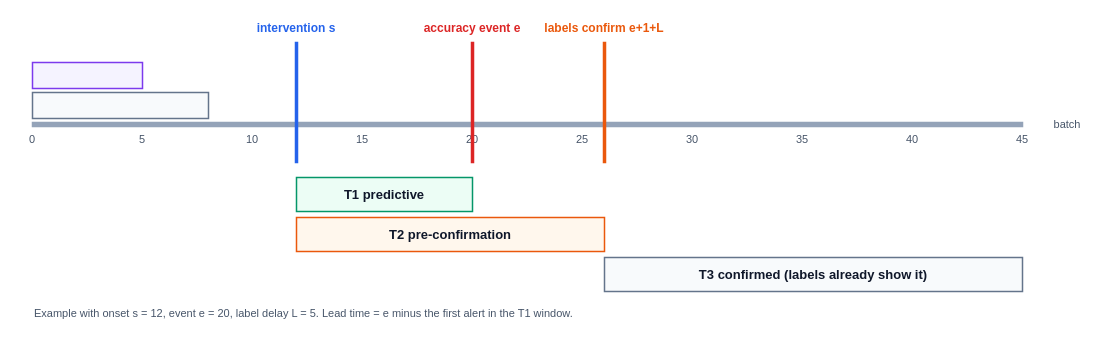
Image size: 1119x341. Some labels were removed from this diagram. The shapes that lost their labels are listed below. From the top down, each one's centre as x and y in pixels, then its label:
point (87, 75): baseline 0-4
point (120, 105): burn-in, no alerts
